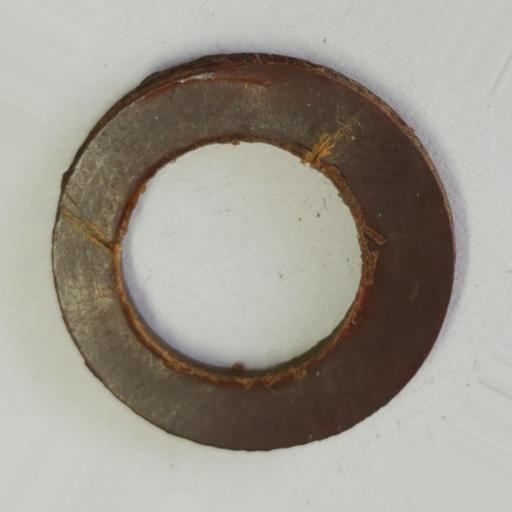defect: (303, 105, 367, 170), (58, 208, 116, 251)
